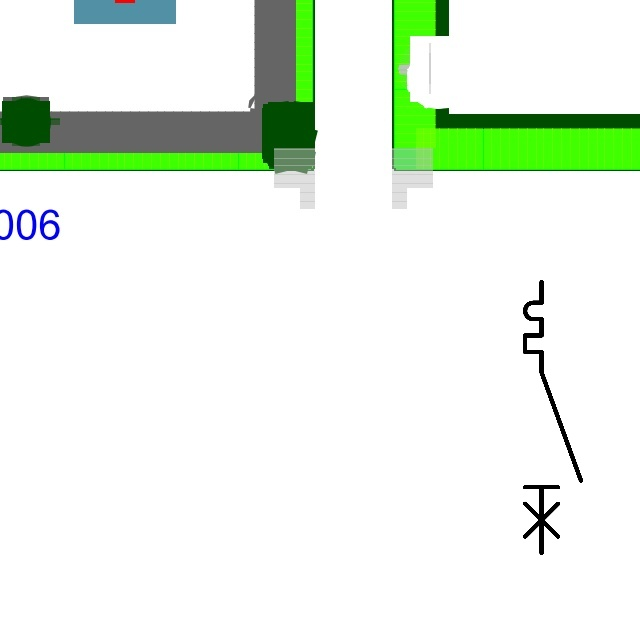interruptor_termomagnetico: (518, 275, 587, 560)
